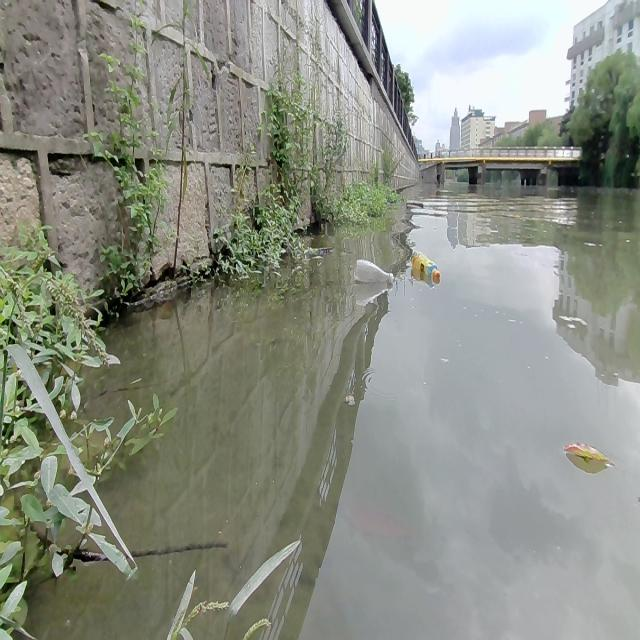bottle: (354, 257, 392, 288), (410, 250, 440, 282)
